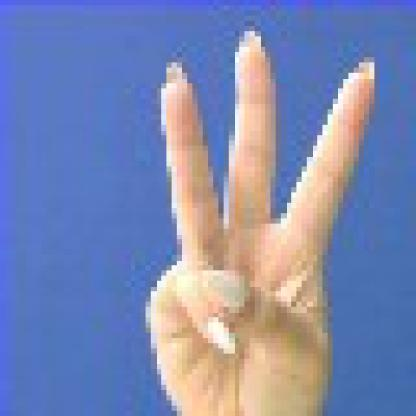three: (136, 30, 389, 415)
